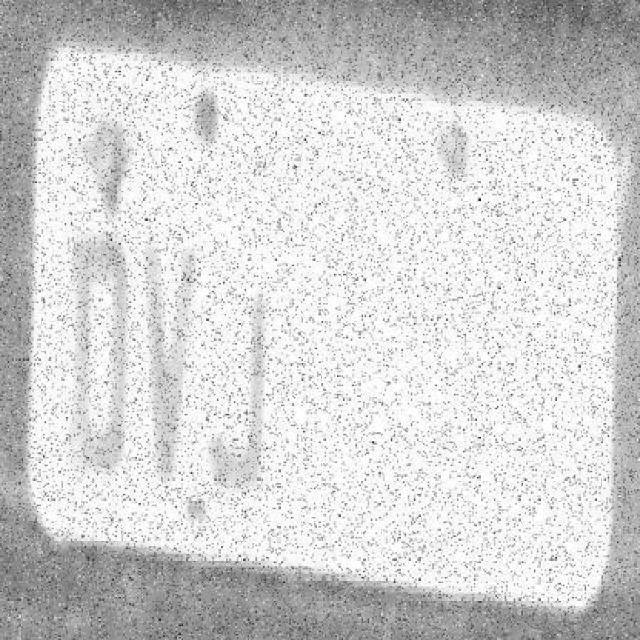licenseplate: (44, 47, 633, 616)
